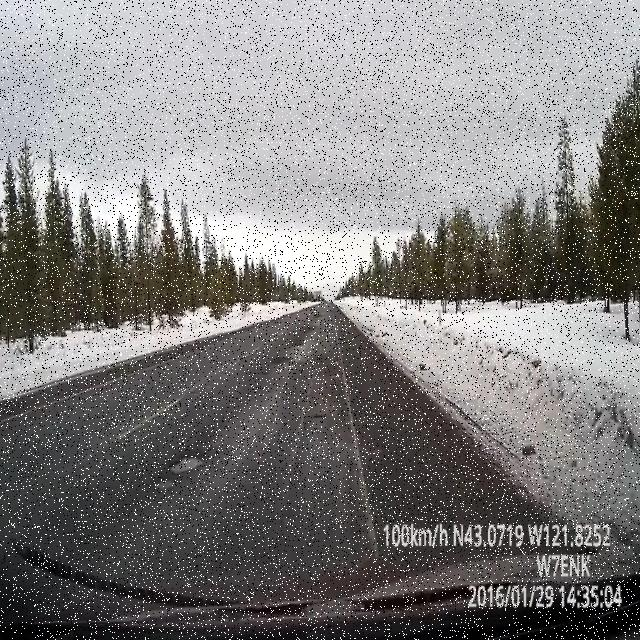pothole: (169, 455, 204, 475), (154, 478, 173, 492)
